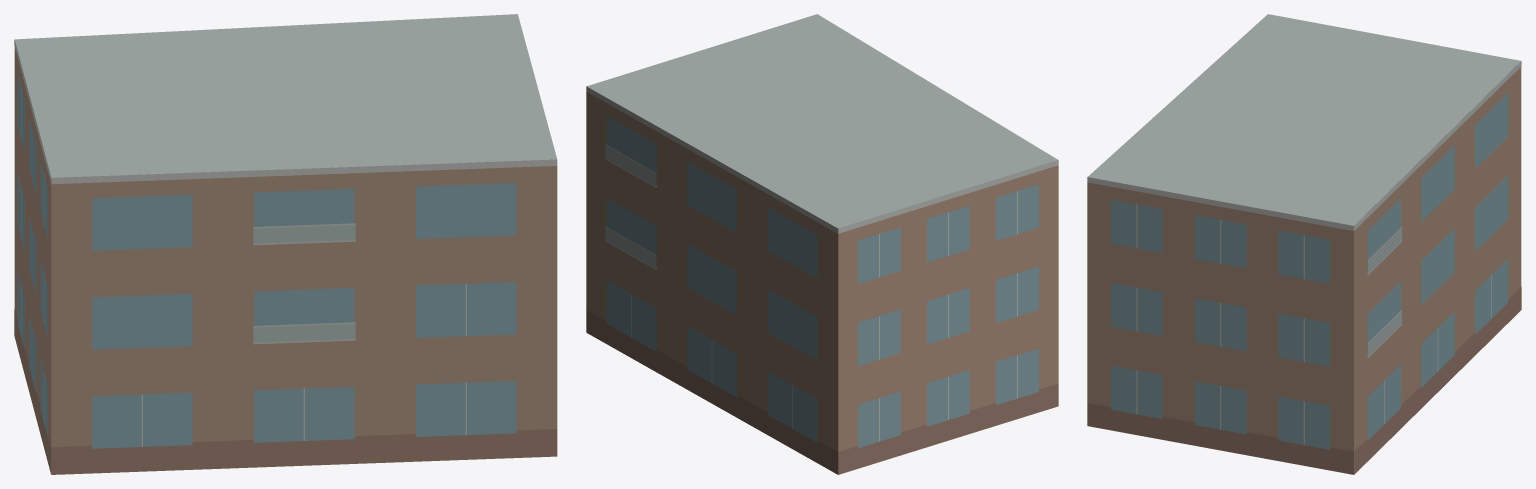
Rendered from survey-upis-32988546.glb.
The picture shows the model from 3 angles, left to right: view 1: azimuth 30°, elevation 25°; view 2: azimuth 150°, elevation 25°; view 3: azimuth 270°, elevation 25°; orthographic projection. The views are drawn at different scales.
Visible parts, largest first — view 1: survey-upis-32988546.tmp; view 2: survey-upis-32988546.tmp; view 3: survey-upis-32988546.tmp.
Boxes of the visible parts, <box> form: survey-upis-32988546.tmp: <box>14,14,557,474</box>; survey-upis-32988546.tmp: <box>586,14,1058,474</box>; survey-upis-32988546.tmp: <box>1087,14,1521,474</box>.
Size of the model in its own units: 20.82 by 11.4 by 18.02.
